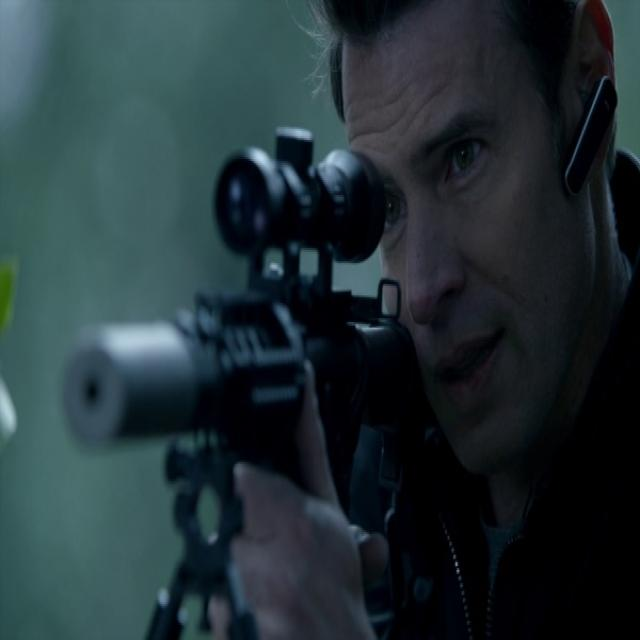rifle: (57, 113, 446, 640)
